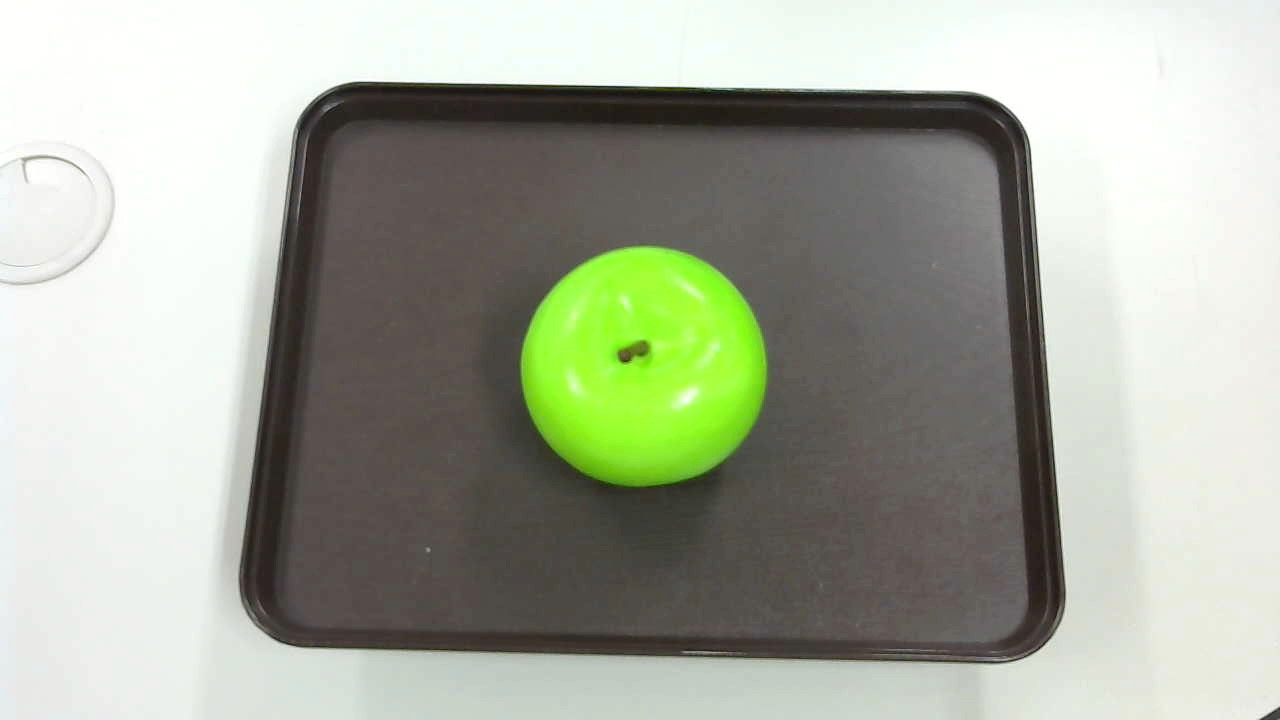green apple: (518, 237, 774, 493)
